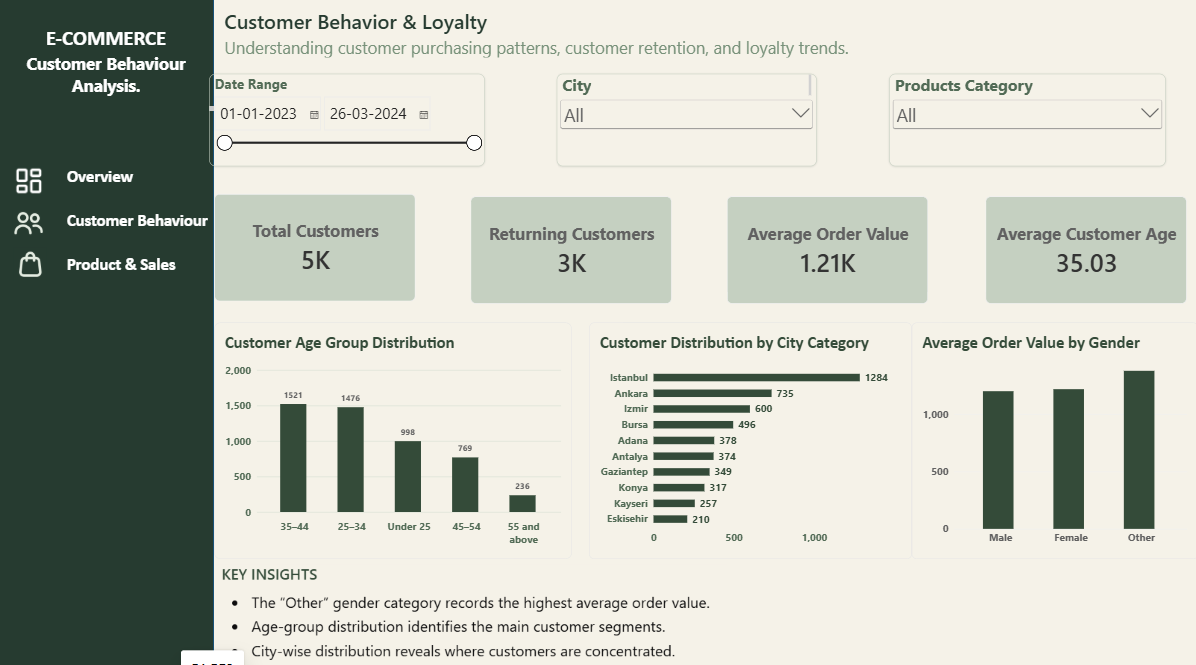

The dashboard page shown, as its layout file describes it:
{"tool":"powerbi","page":{"name":"PAGE2","canvas":[1920,1080],"ordinal":1},"visuals":[{"type":"shape","box":[0,0,345.8,1080.6],"z":0},{"type":"textbox","title":"E-COMMERCE","box":[0,47.3,345.8,137.9],"z":1000},{"type":"textbox","title":"Overview","box":[109.1,273.8,164.7,47.3],"z":2000},{"type":"textbox","title":"Customer Behaviour","box":[109.1,343.7,253.2,39.1],"z":3000},{"type":"textbox","title":"Product & Sales","box":[109.1,413.7,228.5,43.2],"z":4000},{"type":"image","box":[24.7,273.8,49.4,47.3],"z":6000},{"type":"image","box":[18.5,343.7,63.8,43.2],"z":7000},{"type":"image","box":[14.4,403.4,74.1,53.5],"z":8000},{"type":"textbox","title":"Customer Behavior & Loyalty","box":[362,20,1506,130],"z":10000},{"type":"slicer","fields":{"Values":["Customer.City"]},"box":[894,126,415.8,148.2],"z":11000},{"type":"slicer","fields":{"Values":["Dim_Date.Date"]},"box":[338,126,440.5,148.2],"z":12000},{"type":"slicer","fields":{"Values":["Product.Products Category"]},"box":[1426,126,442.5,148.2],"z":13000},{"type":"cardVisual","fields":{"Data":["Ecommerce_Final.Total Customers"]},"box":[346,318,322.5,172.5],"z":14000},{"type":"cardVisual","fields":{"Data":["Ecommerce_Final.Returning Customers"]},"box":[756,322,322.5,172.5],"z":15000},{"type":"cardVisual","fields":{"Data":["Ecommerce_Final.Average Order Value"]},"box":[1166,322,322.5,172.5],"z":16000},{"type":"cardVisual","fields":{"Data":["Customer.Average Customer Age"]},"box":[1580,322,322.5,172.5],"z":17000},{"type":"clusteredColumnChart","title":"Customer Age Group Distribution","fields":{"Category":["Customer.Age Group"],"Y":["CountNonNull(Customer.Customer_ID)"]},"box":[346,524,572,378],"z":18000},{"type":"clusteredBarChart","title":"Customer Distribution by City Category","fields":{"Category":["Customer.City"],"Y":["CountNonNull(Customer.Customer_ID)"]},"box":[946,524,516,378],"z":19000},{"type":"clusteredColumnChart","title":"Average Order Value by Gender","fields":{"Category":["Customer.Gender"],"Y":["Ecommerce_Final.Average Order Value"]},"box":[1462,524,458,378],"z":20000},{"type":"image","box":[346,902,820,178],"z":20001}]}

Visuals, with their boxes on the page's 1920x1080 design canvas (x1, y1, x2, y2). These are canvas units, not pixel positions in the 1196x665 screenshot, which may show the page scaled, cropped or inside an application window:
shape: <bbox>0, 0, 346, 1081</bbox>
"E-COMMERCE" textbox: <bbox>0, 47, 346, 185</bbox>
"Overview" textbox: <bbox>109, 274, 274, 321</bbox>
"Customer Behaviour" textbox: <bbox>109, 344, 362, 383</bbox>
"Product & Sales" textbox: <bbox>109, 414, 338, 457</bbox>
image: <bbox>25, 274, 74, 321</bbox>
image: <bbox>18, 344, 82, 387</bbox>
image: <bbox>14, 403, 88, 457</bbox>
"Customer Behavior & Loyalty" textbox: <bbox>362, 20, 1868, 150</bbox>
slicer - Customer.City: <bbox>894, 126, 1310, 274</bbox>
slicer - Dim_Date.Date: <bbox>338, 126, 778, 274</bbox>
slicer - Product.Products Category: <bbox>1426, 126, 1868, 274</bbox>
cardVisual - Ecommerce_Final.Total Customers: <bbox>346, 318, 668, 490</bbox>
cardVisual - Ecommerce_Final.Returning Customers: <bbox>756, 322, 1078, 494</bbox>
cardVisual - Ecommerce_Final.Average Order Value: <bbox>1166, 322, 1488, 494</bbox>
cardVisual - Customer.Average Customer Age: <bbox>1580, 322, 1902, 494</bbox>
"Customer Age Group Distribution" clusteredColumnChart: <bbox>346, 524, 918, 902</bbox>
"Customer Distribution by City Category" clusteredBarChart: <bbox>946, 524, 1462, 902</bbox>
"Average Order Value by Gender" clusteredColumnChart: <bbox>1462, 524, 1920, 902</bbox>
image: <bbox>346, 902, 1166, 1080</bbox>
